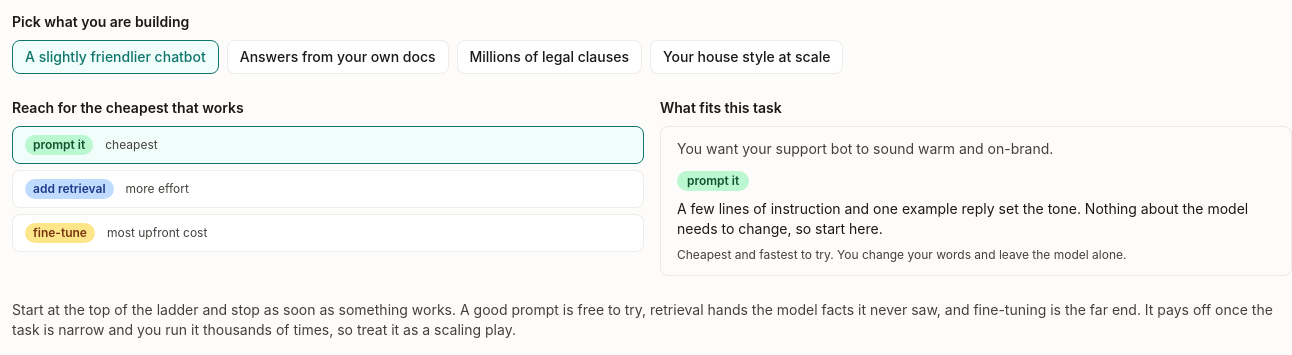
it: picking a docs task recommends retrieval
Click the button "Answers from your own docs": (338, 57) [227, 40, 448, 74]
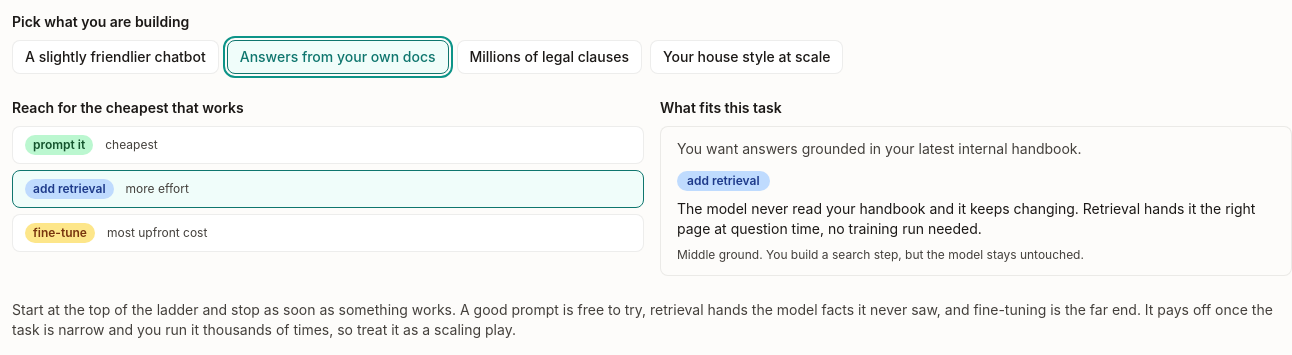
Expected: the element named "add retrieval: the model never read your handbook" is shown, [660, 126, 1291, 276]
